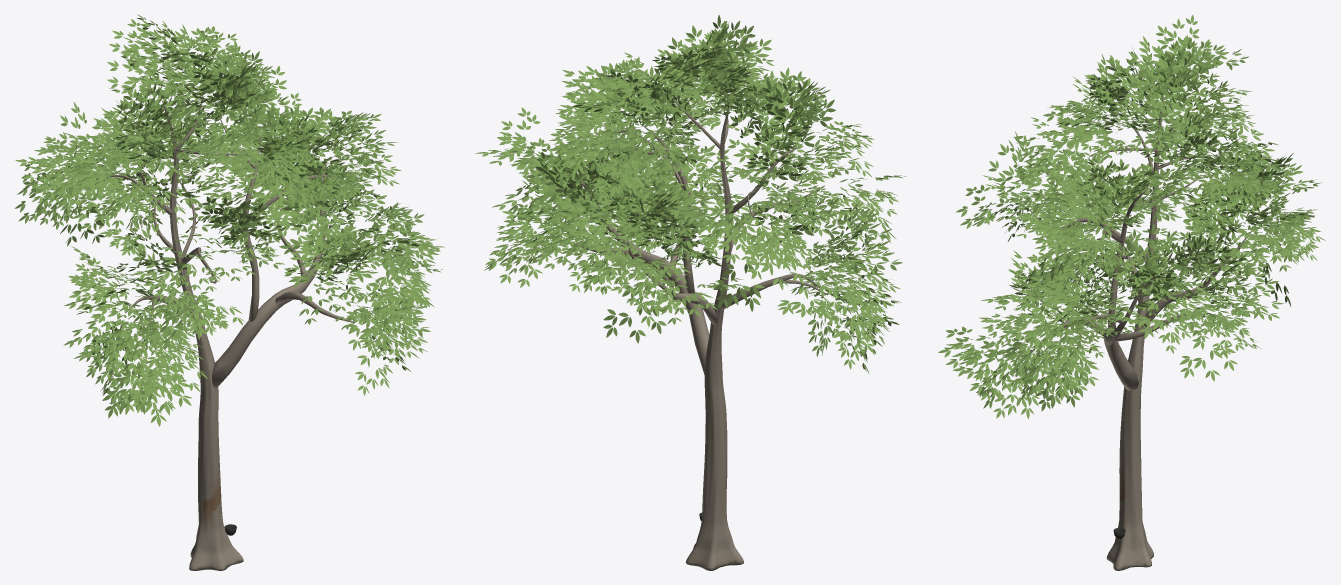
3 views of the same model, side by side, from view 1: azimuth 30°, elevation 25°; view 2: azimuth 150°, elevation 25°; view 3: azimuth 270°, elevation 25° (orthographic). The views are drawn at different scales.
Parts seen in each view (by area): view 1: V20_LOD0_Foliage, V20_LOD0_Body; view 2: V20_LOD0_Foliage, V20_LOD0_Body; view 3: V20_LOD0_Foliage, V20_LOD0_Body.
Part boxes in pixels (x1,y1,x2,y2): V20_LOD0_Foliage: (14,14,444,426); V20_LOD0_Body: (96,87,366,570); V20_LOD0_Foliage: (475,15,906,373); V20_LOD0_Body: (560,98,827,570); V20_LOD0_Foliage: (938,15,1325,418); V20_LOD0_Body: (1028,96,1251,570).
Bounding box in the file's own units: 9.03 × 13.02 × 8.76.
2 materials, 1 textured.
